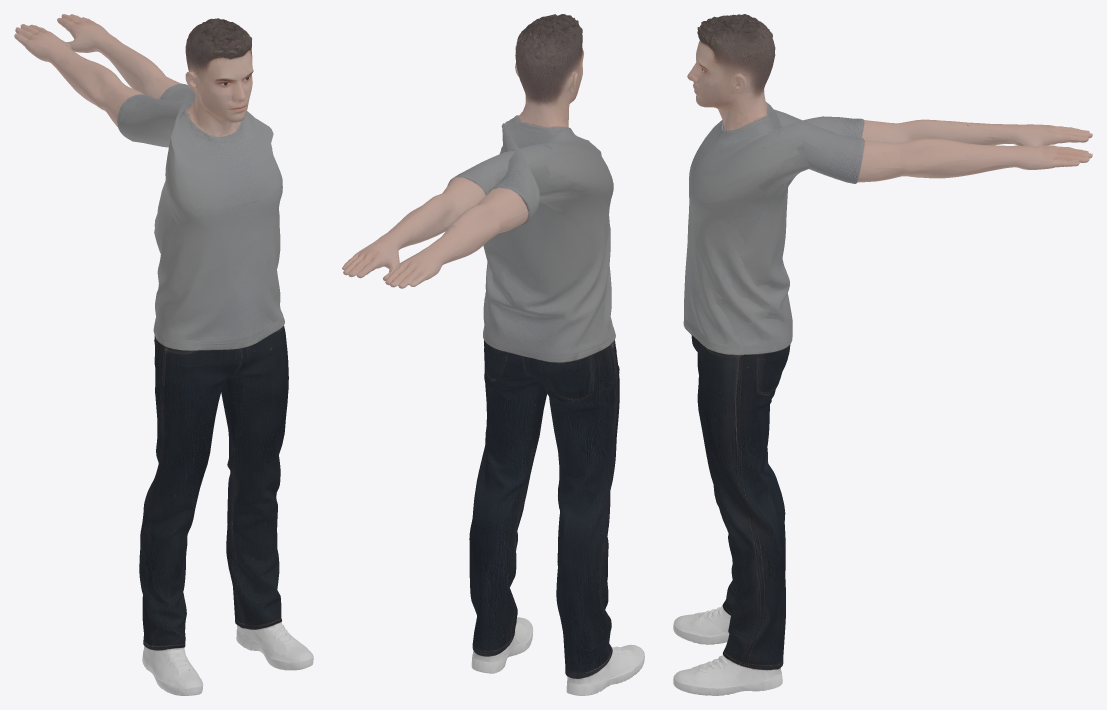
File: adult_static.glb
3 views of the same model, side by side, from view 1: azimuth 30°, elevation 25°; view 2: azimuth 150°, elevation 25°; view 3: azimuth 270°, elevation 25° (orthographic).
Visible parts, largest first — view 1: adulte_statique; view 2: adulte_statique; view 3: adulte_statique.
Boxes of the visible parts, box(x1,y1,x2,y2) form: adulte_statique: box(14, 14, 313, 695); adulte_statique: box(342, 14, 644, 695); adulte_statique: box(673, 14, 1092, 695).
Bounding box in the file's own units: 0.372 × 1.6 × 0.9424.
Materials: 1 (1 with a texture image).
